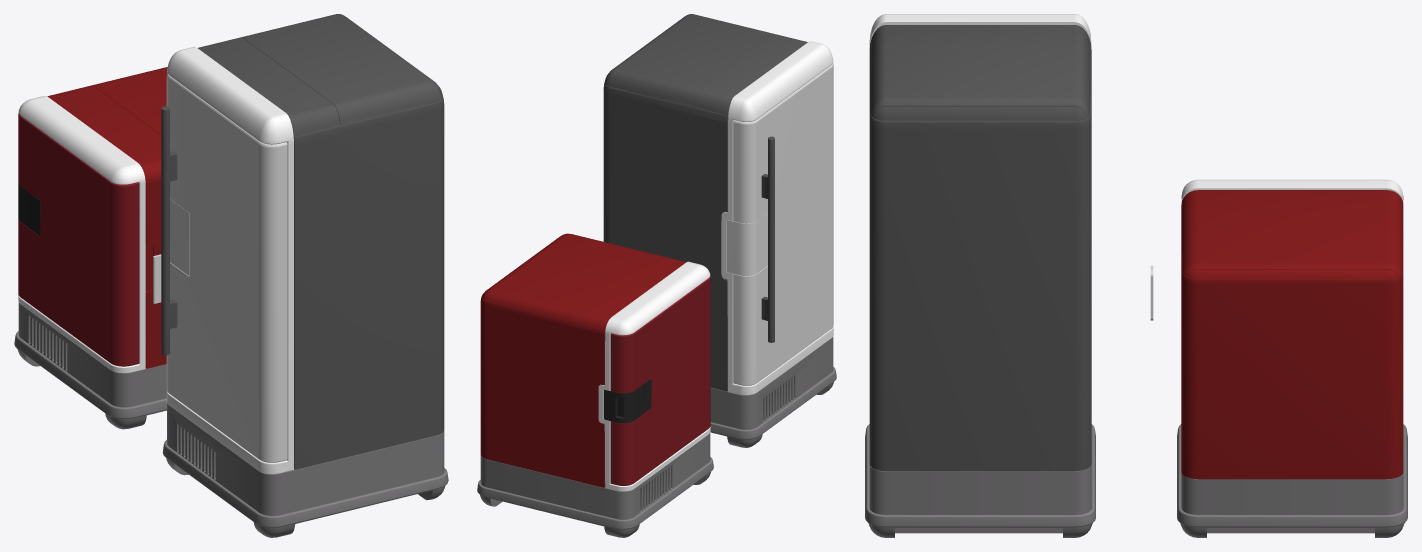
File: GamePropAsset.fbx
The picture shows the model from 3 angles, left to right: view 1: azimuth 30°, elevation 25°; view 2: azimuth 150°, elevation 25°; view 3: azimuth 270°, elevation 25°; orthographic projection. The views are drawn at different scales.
Visible parts, largest first — view 1: Cube.002, Cube.009, Cube.005, Cube.008, Cube, Cube.010, Cube.006, Cube.007, Cylinder.004, Cube.004, Cube.001; view 2: Cube.002, Cube, Cube.009, Cube.005, Cube.006, Cube.010, Cube.008, Cube.007, Cube.004, Cylinder.004, Cube.001; view 3: Cube.002, Cube, Cube.008, Cube.006, Cube.010, Cube.007.
Boxes of the visible parts, x1,y1,x2,y2 form: Cube.002: (198,14,444,469); Cube.009: (166,73,287,462); Cube.005: (18,113,139,366); Cube.008: (162,403,448,537); Cube: (47,67,167,368); Cube.010: (166,46,293,473); Cube.006: (14,303,166,429); Cube.007: (18,96,145,372); Cylinder.004: (161,106,177,355); Cube.004: (170,199,189,275); Cube.001: (18,183,40,236); Cube.002: (603,14,807,391); Cube: (480,233,686,487); Cube.009: (733,63,833,385); Cube.005: (610,276,710,485); Cube.006: (477,433,713,537); Cube.010: (721,41,833,394); Cube.008: (710,337,836,447); Cube.007: (598,261,710,491); Cube.004: (727,213,767,275); Cylinder.004: (761,136,774,342); Cube.001: (604,379,651,423); Cube.002: (869,25,1091,471); Cube: (1181,190,1403,479); Cube.008: (865,424,1095,537); Cube.006: (1177,424,1407,537); Cube.010: (869,14,1091,46); Cube.007: (1181,179,1403,202).
Size of the model in its own units: 220 by 439 by 489.
